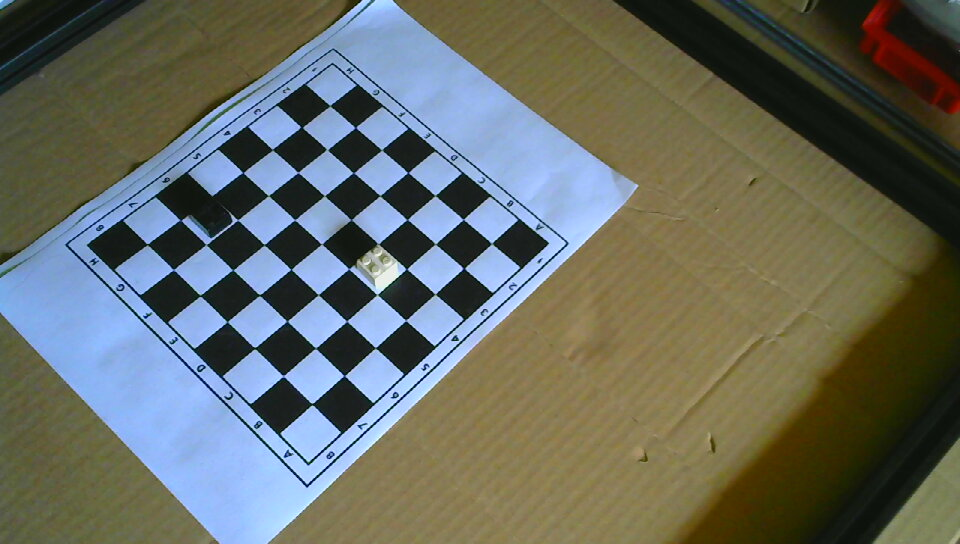bp: (186, 197, 234, 238)
wp: (355, 241, 402, 289)
